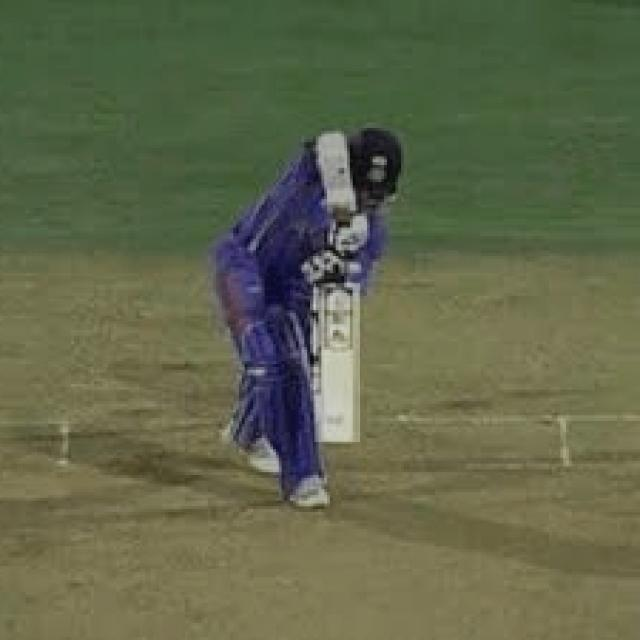bat: (315, 281, 360, 444)
